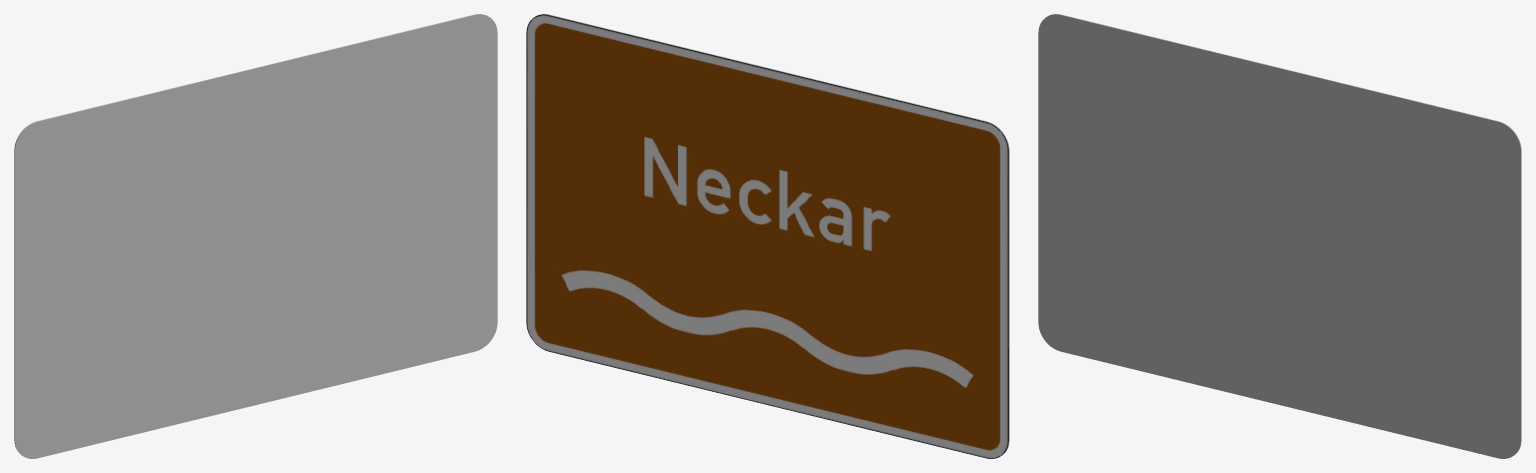
3 views of the same model, side by side, from view 1: azimuth 30°, elevation 25°; view 2: azimuth 150°, elevation 25°; view 3: azimuth 330°, elevation 25° (orthographic).
Parts seen in each view (by area): view 1: Plane; view 2: Plane; view 3: Plane.
Part boxes in pixels (bbox=[...]): Plane: bbox=[14, 14, 497, 458]; Plane: bbox=[526, 14, 1009, 458]; Plane: bbox=[1038, 14, 1521, 458].
Size of the model in its own units: 0.9 by 0.6 by 0.002.
2 materials, 1 textured.
